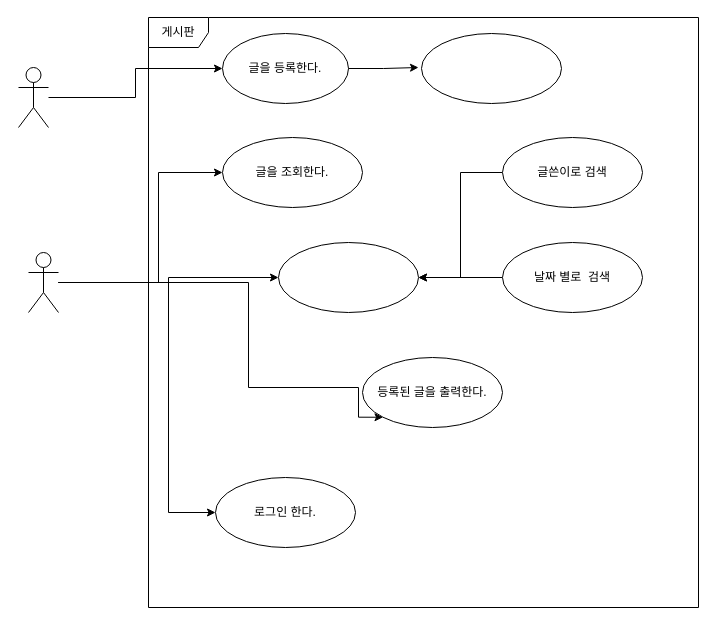
This 716x625 diagram has some shape labels left out. The shapes that lost their labels are listed below. From the top down, each one's centre as x and y in pixels, then its label:
the point at 491,68: 파일을 첨부한다.
the point at 33,97: 글쓴이
the point at 43,282: 사용자
the point at 348,277: 검색
